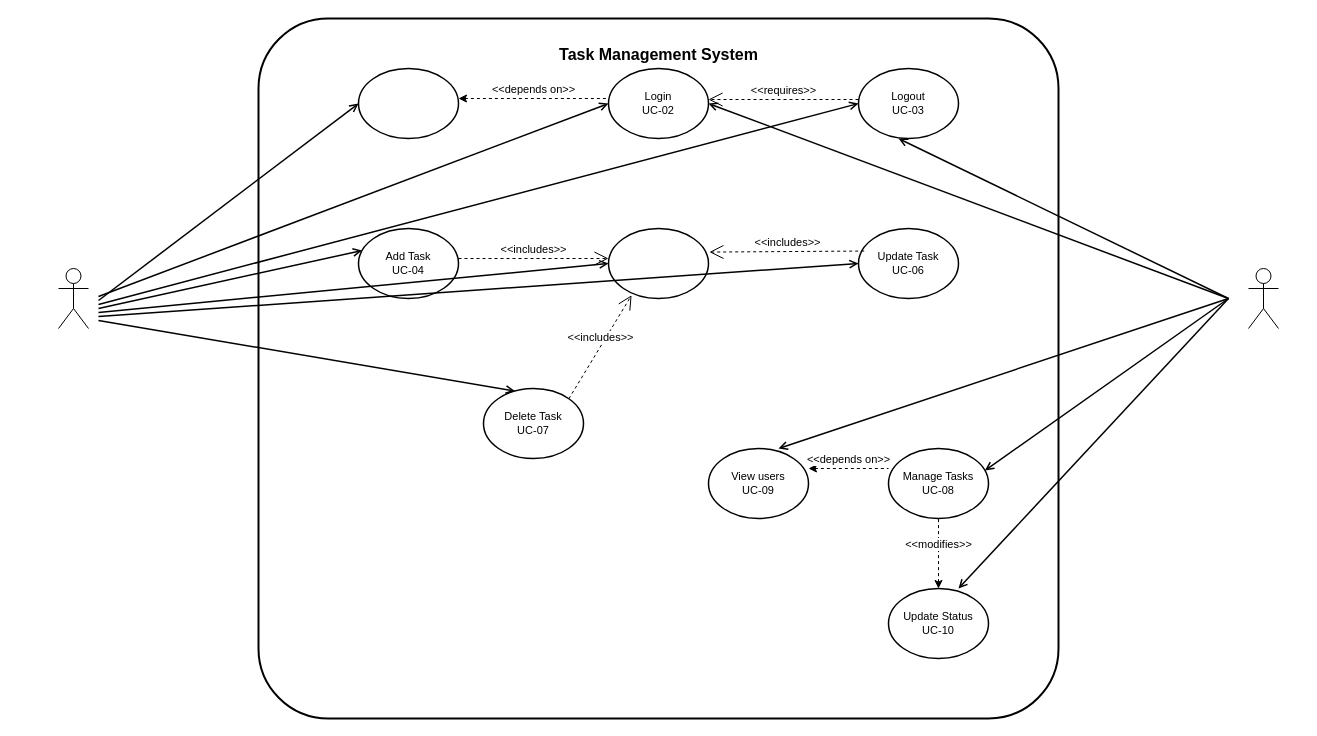
This 1317x736 diagram has some shape labels left out. Here are the shapes that lost their labels. From the top down, the centre of each, then its label:
At point 408,103: "Signup UC-01".
At point 658,263: "View Task UC-05".
At point 73,298: "User".
At point 1263,298: "Admin".
